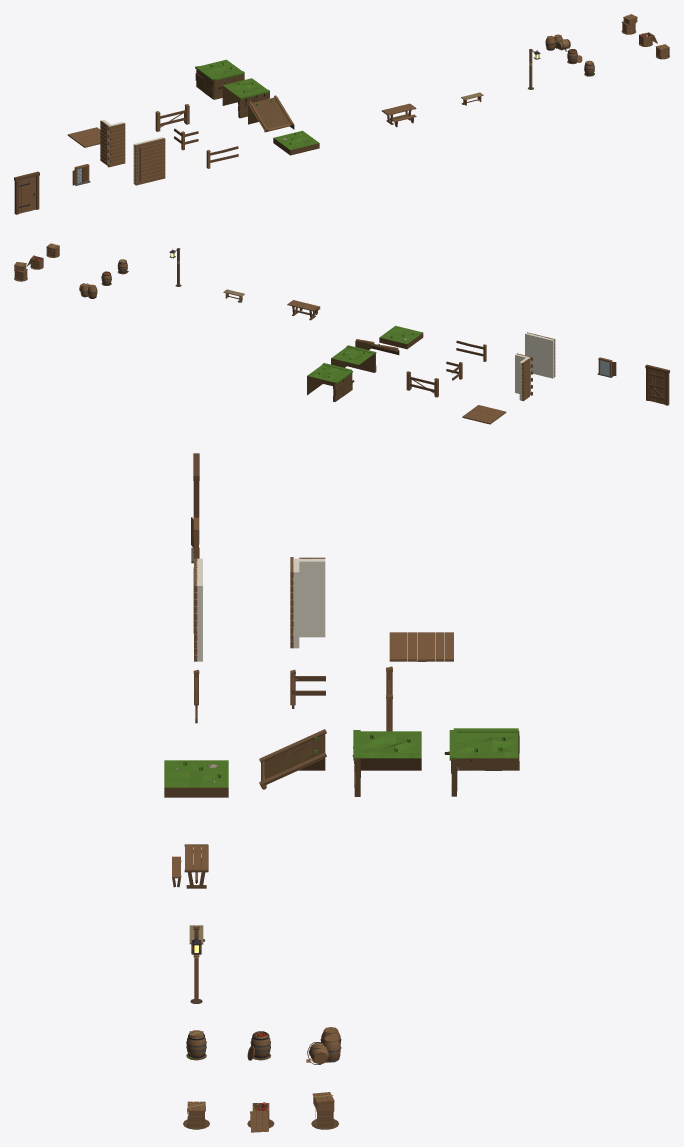
Rendered from Rustic_FullBuild.glb.
3 renders of one model, top to bottom at view 1: azimuth 30°, elevation 25°; view 2: azimuth 150°, elevation 25°; view 3: azimuth 270°, elevation 25°, orthographic. The views are drawn at different scales.
Parts seen in each view (by area): view 1: SM_Terrain_Rustic_01_Slope_Ramp, SM_Terrain_Rustic_01_Flat_Ground, SM_Terrain_Rustic_01_Cliff_Bank, SM_Terrain_Rustic_01_Corner_Bank; view 2: SM_Wall_RusticLog_01_Straight_Panel, SM_Terrain_Rustic_01_Flat_Ground, SM_Terrain_Rustic_01_Corner_Bank, SM_Terrain_Rustic_01_Cliff_Bank; view 3: SM_Terrain_Rustic_01_Cliff_Bank, SM_Terrain_Rustic_01_Flat_Ground, SM_Wall_RusticLog_01_Corner_PanelY, SM_Terrain_Rustic_01_Corner_Bank, SM_Terrain_Rustic_01_Slope_Ramp.
Part boxes in pixels (x1,y1,x2,y2): SM_Terrain_Rustic_01_Slope_Ramp: [248, 97, 294, 131]; SM_Terrain_Rustic_01_Flat_Ground: [273, 130, 319, 155]; SM_Terrain_Rustic_01_Cliff_Bank: [222, 78, 266, 105]; SM_Terrain_Rustic_01_Corner_Bank: [199, 59, 241, 77]; SM_Wall_RusticLog_01_Straight_Panel: [525, 333, 554, 378]; SM_Terrain_Rustic_01_Flat_Ground: [379, 325, 423, 349]; SM_Terrain_Rustic_01_Corner_Bank: [307, 364, 347, 395]; SM_Terrain_Rustic_01_Cliff_Bank: [331, 347, 373, 367]; SM_Terrain_Rustic_01_Cliff_Bank: [360, 731, 421, 770]; SM_Terrain_Rustic_01_Flat_Ground: [164, 760, 228, 797]; SM_Wall_RusticLog_01_Corner_PanelY: [299, 558, 325, 637]; SM_Terrain_Rustic_01_Corner_Bank: [457, 732, 518, 770]; SM_Terrain_Rustic_01_Slope_Ramp: [261, 734, 325, 787].
Bounding box in the file's own units: 44.88 × 2.66 × 11.04.
